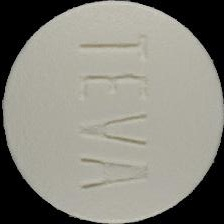61786-528: (0, 0, 224, 224)
